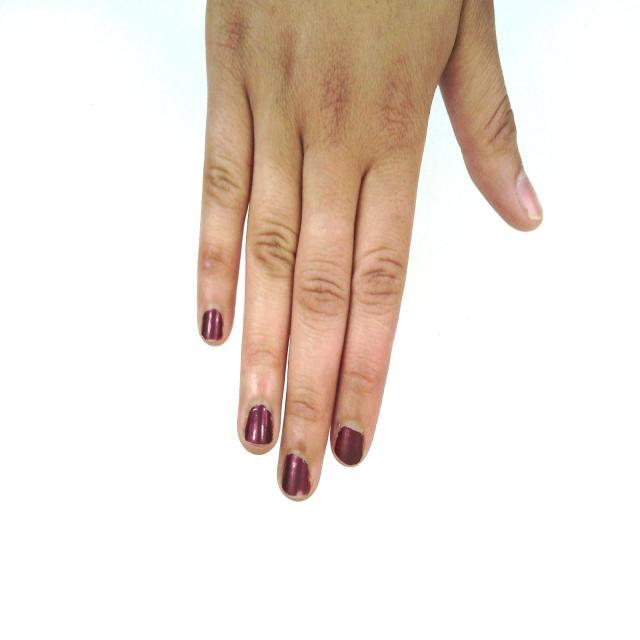Fingernail: (283, 449, 311, 497), (334, 422, 363, 466), (517, 172, 543, 220), (245, 400, 273, 444), (202, 304, 223, 340)
